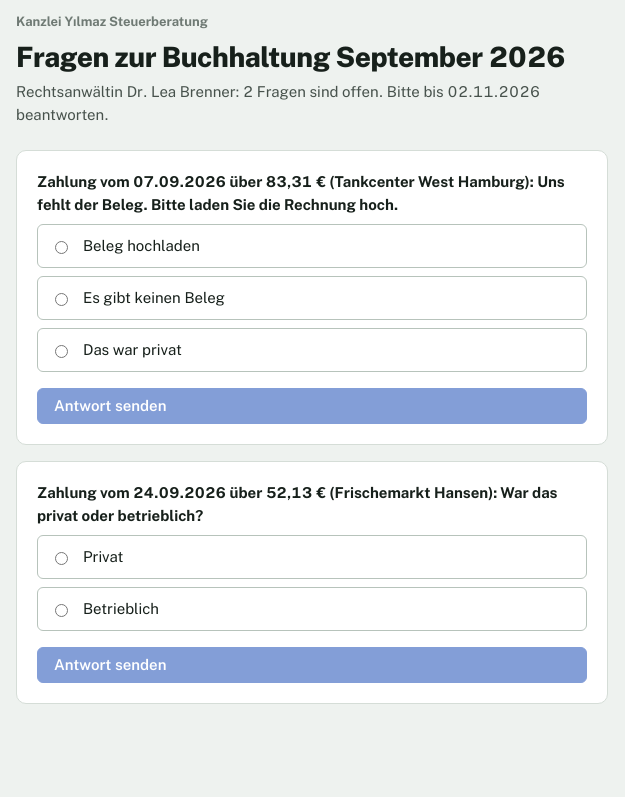
Test: the client portal › asks for the purpose before a business answer can be sent
Check: the submit button is disabled, box [37,647,587,683]
Click the radio button labelled "Betrieblich" at (62, 611), box [55,604,68,617]
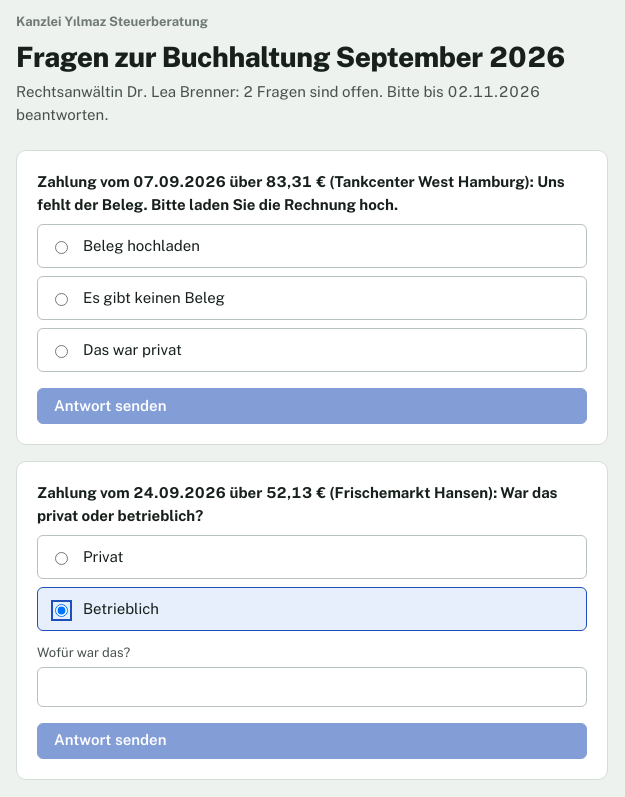
Check: the submit button is disabled, box [37,723,587,759]
Type "Getränke für das Büro" into the field labelled "Wofür war das?" at (312, 687), box [37,667,587,707]
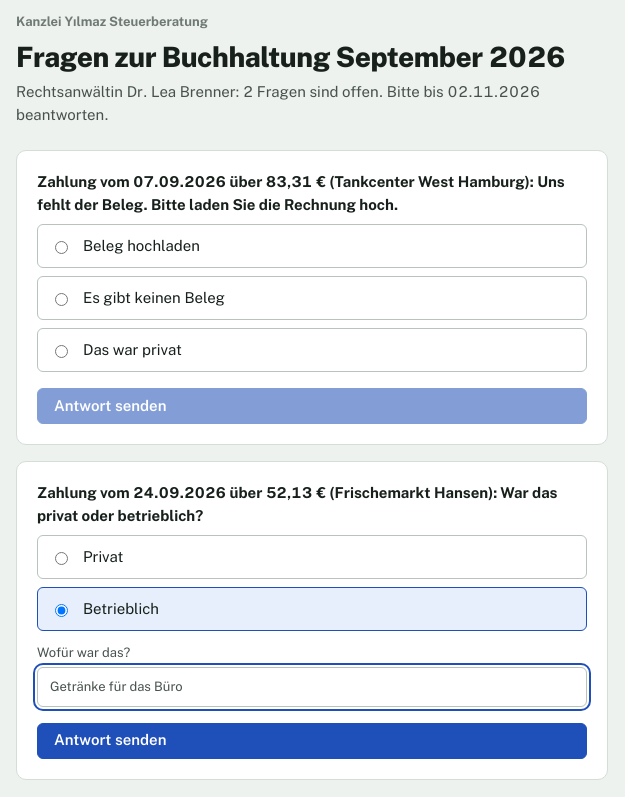
Check: the submit button is enabled
Click the submit button at (110, 740), box [37,723,587,759]
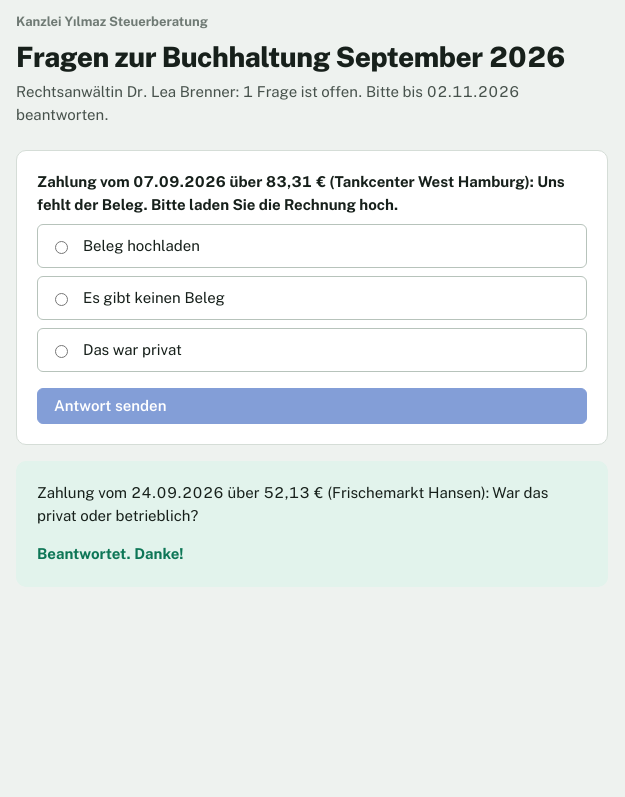
Check: the text "Beantwortet. Danke!" is shown, box [37,545,184,562]
